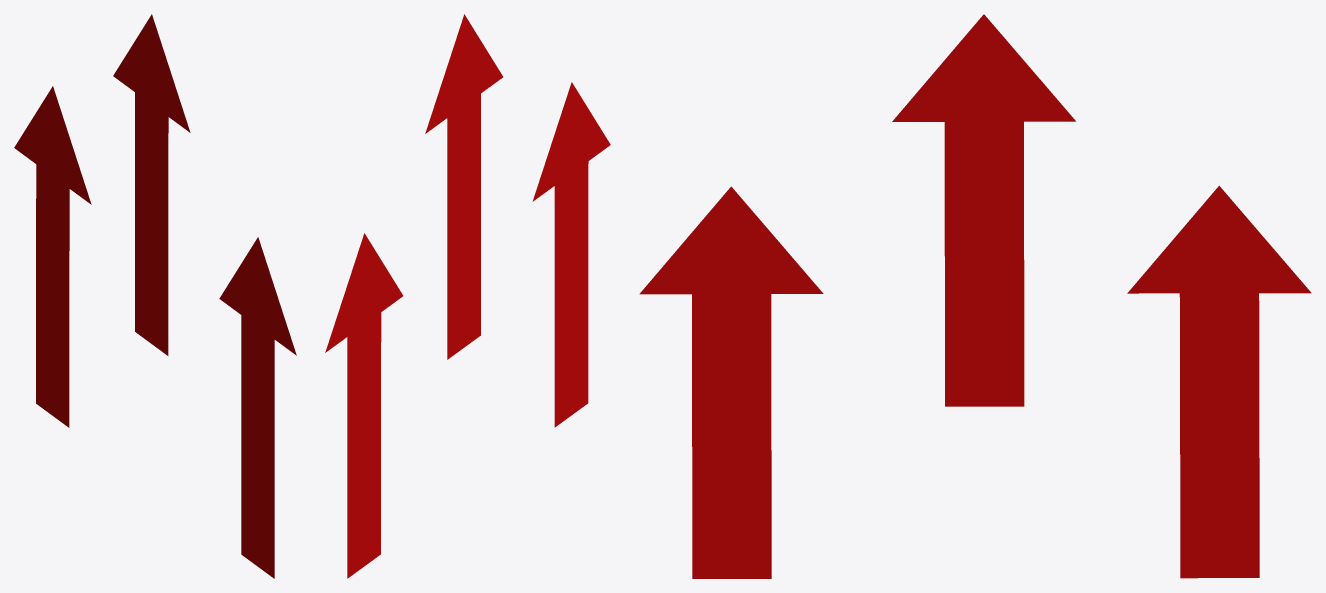
File: wc_anim_1.fbx
The picture shows the model from 3 angles, left to right: view 1: azimuth 30°, elevation 25°; view 2: azimuth 150°, elevation 25°; view 3: azimuth 270°, elevation 25°; orthographic projection. The views are drawn at different scales.
Visible parts, largest first — view 1: red_arrow15, red_arrow16, red_arrow13; view 2: red_arrow15, red_arrow16, red_arrow13; view 3: red_arrow16, red_arrow15, red_arrow13.
Part boxes in pixels (x1,y1,x2,y2): red_arrow15: [219, 237, 296, 578]; red_arrow16: [14, 86, 91, 427]; red_arrow13: [113, 14, 190, 355]; red_arrow15: [532, 82, 610, 427]; red_arrow16: [325, 233, 403, 578]; red_arrow13: [425, 14, 502, 359]; red_arrow16: [1127, 185, 1311, 578]; red_arrow15: [639, 186, 823, 578]; red_arrow13: [892, 14, 1075, 406].
Size of the model in its own units: 0.00013 by 13.73 by 14.81.
